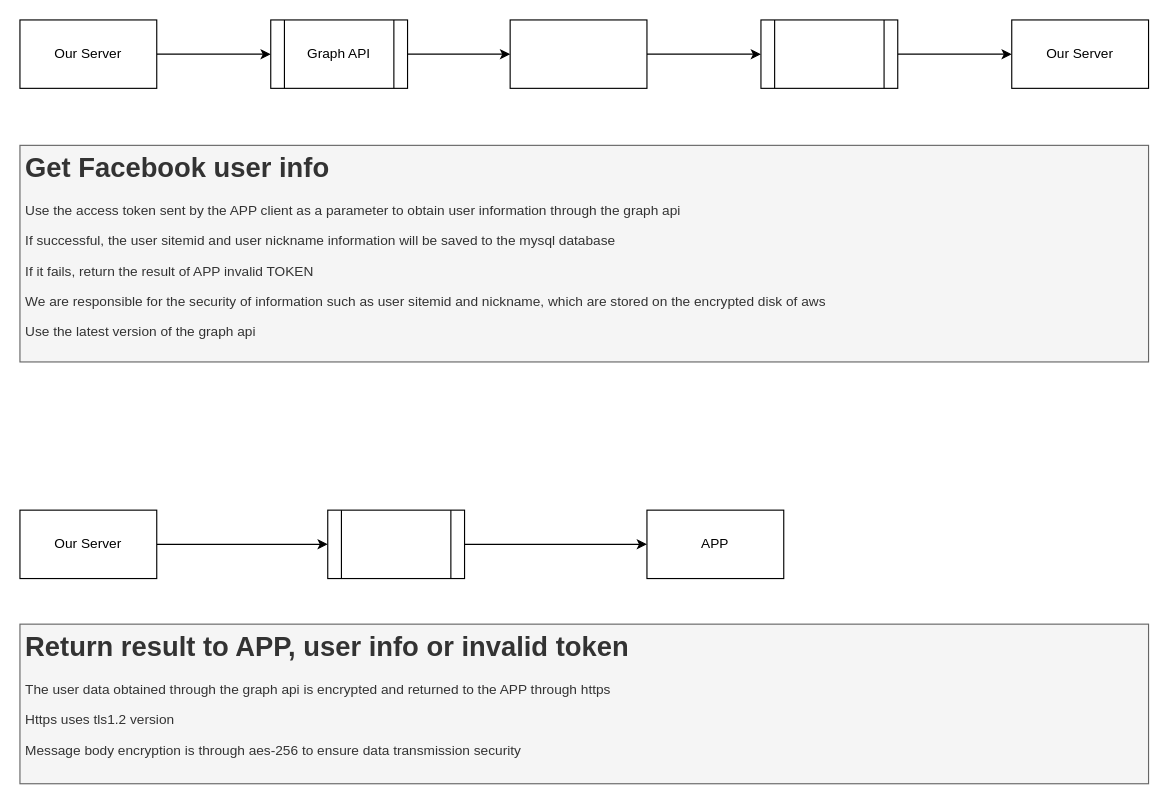
Image size: 1169x804. Some labels were removed from this diagram. The centre of each missing label's shape, as x and y in pixels:
"Facebook" belongs at point (578, 53).
"Https Response with body encryption" belongs at point (396, 544).
"Return User Info" belongs at point (829, 53).
